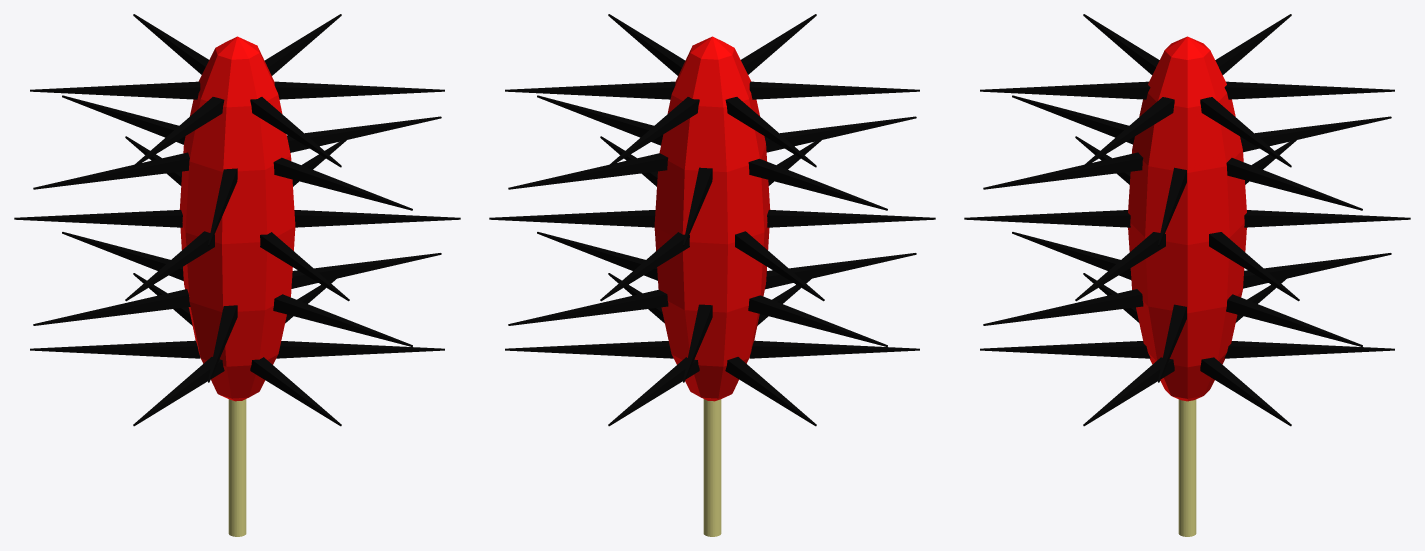
The model's file is BobaSpike.glb.
3 views of the same model, side by side, from view 1: azimuth 30°, elevation 25°; view 2: azimuth 150°, elevation 25°; view 3: azimuth 270°, elevation 25° (orthographic).
Visible parts, largest first — view 1: Body, Stem, Cube.005, Cube.015, Cube.025, Cube.008, Cube.018, Cube.028, Cube.020, Cube.010, Cube.012, Cube.022 (+14 smaller); view 2: Body, Stem, Cube.006, Cube.016, Cube.026, Cube.009, Cube.019, Cube.029, Cube.024, Cube.014, Cube.010, Cube.020 (+14 smaller); view 3: Body, Stem, Cube.003, Cube.007, Cube.004, Cube.027, Cube.022, Cube, Cube.017, Cube.012, Cube.014, Cube.024 (+14 smaller).
Boxes of the visible parts, x1,y1,x2,y2 form: Body: (179, 36, 295, 401); Stem: (228, 399, 246, 536); Cube.005: (30, 81, 200, 99); Cube.015: (14, 210, 182, 227); Cube.025: (30, 340, 200, 358); Cube.008: (274, 81, 444, 99); Cube.018: (294, 210, 460, 227); Cube.028: (276, 341, 444, 358); Cube.020: (33, 289, 190, 325); Cube.010: (33, 152, 189, 189); Cube.012: (273, 157, 412, 210); Cube.022: (273, 294, 412, 346); Body: (654, 36, 770, 401); Stem: (703, 399, 721, 536); Cube.006: (749, 81, 919, 99); Cube.016: (767, 210, 935, 227); Cube.026: (749, 340, 919, 358); Cube.009: (505, 81, 675, 99); Cube.019: (489, 210, 655, 227); Cube.029: (505, 341, 673, 358); Cube.024: (508, 289, 668, 325); Cube.014: (508, 153, 668, 189); Cube.010: (748, 158, 887, 210); Cube.020: (748, 295, 887, 346); Body: (1128, 36, 1246, 401); Stem: (1178, 399, 1196, 536); Cube.003: (1224, 81, 1394, 99); Cube.007: (980, 81, 1150, 99); Cube.004: (1224, 341, 1394, 358); Cube.027: (980, 341, 1150, 358); Cube.022: (983, 289, 1143, 325); Cube: (1244, 210, 1410, 227); Cube.017: (964, 210, 1130, 227); Cube.012: (983, 152, 1143, 189); Cube.014: (1226, 158, 1362, 210); Cube.024: (1226, 294, 1362, 346).
Bounding box in the file's own units: 2.8 × 3.5 × 2.85.
